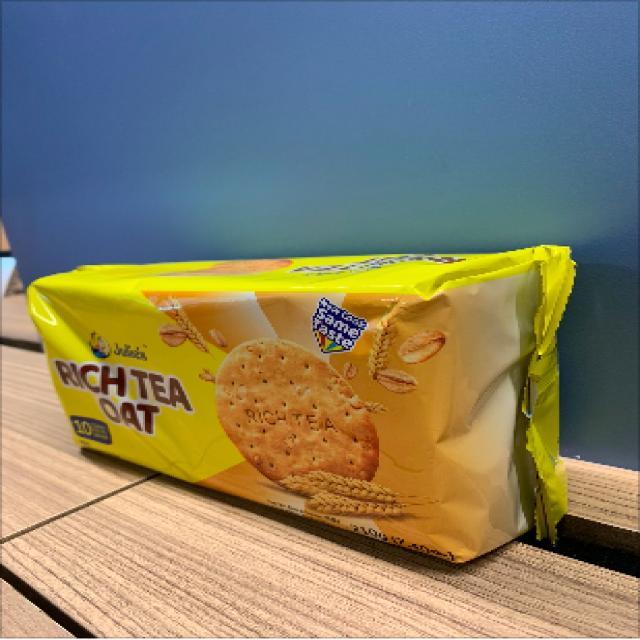object_name: (50, 260, 533, 501)
